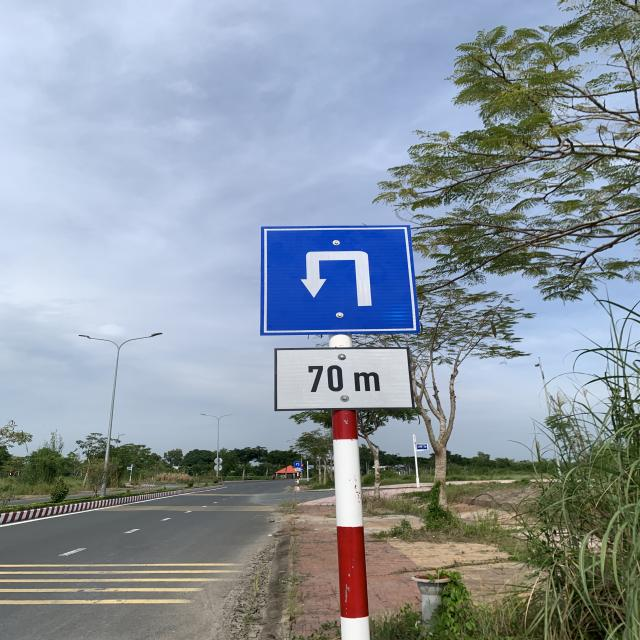Den_Giao_Thong: (262, 226, 421, 332)
